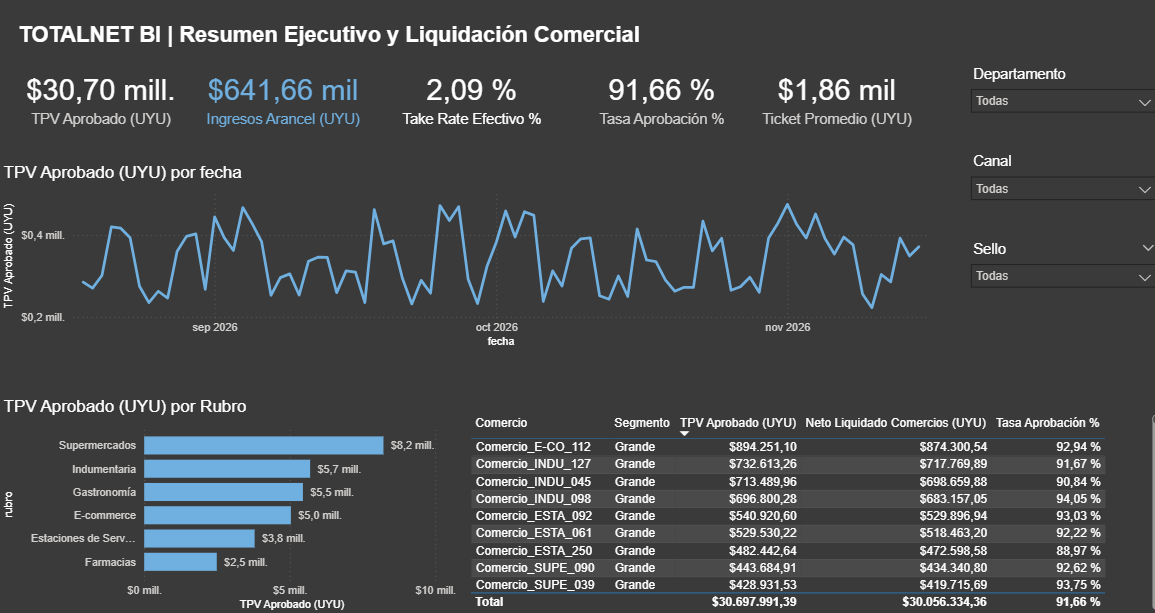

The page's visual inventory and layout, read from the dashboard file:
{"tool":"powerbi","page":{"name":"Resumen Ejecutivo","canvas":[1280,720],"ordinal":0},"visuals":[{"type":"card","fields":{"Values":["Medidas_Totalnet.TPV Aprobado (UYU)"]},"box":[0,48,224,208],"z":0},{"type":"card","fields":{"Values":["Medidas_Totalnet.Ingresos Arancel (UYU)"]},"box":[192,48,240,208],"z":1000},{"type":"card","fields":{"Values":["Medidas_Totalnet.Take Rate Efectivo %"]},"box":[400,48,240,208],"z":2000},{"type":"card","fields":{"Values":["Medidas_Totalnet.Tasa Aprobación %"]},"box":[608,48,240,208],"z":3000},{"type":"card","fields":{"Values":["Medidas_Totalnet.Ticket Promedio (UYU)"]},"box":[800,48,240,208],"z":4000},{"type":"slicer","fields":{"Values":["public dim_comercios.departamento"]},"box":[1056,112,224,96],"z":5000},{"type":"slicer","fields":{"Values":["public fact_transacciones.canal"]},"box":[1056,208,224,80],"z":6000},{"type":"slicer","fields":{"Values":["public fact_transacciones.sello"]},"box":[1056,304,224,80],"z":7000},{"type":"lineChart","fields":{"Y":["Medidas_Totalnet.TPV Aprobado (UYU)"],"Category":["public fact_transacciones.fecha"]},"box":[0,224,1040,208],"z":8000},{"type":"clusteredBarChart","fields":{"Category":["public dim_comercios.rubro"],"Y":["Medidas_Totalnet.TPV Aprobado (UYU)"]},"box":[0,480,544,240],"z":9000},{"type":"tableEx","fields":{"Values":["public dim_comercios.nombre_comercio","public dim_comercios.tamano_comercio","Medidas_Totalnet.TPV Aprobado (UYU)","Medidas_Totalnet.Neto Liquidado Comercios (UYU)","Medidas_Totalnet.Tasa Aprobación %"]},"box":[544,432,736,288],"z":10000}]}

Visuals, with their boxes on the page's 1280x720 design canvas (x1, y1, x2, y2). These are canvas units, not pixel positions in the 1155x613 screenshot, which may show the page scaled, cropped or inside an application window:
card - Medidas_Totalnet.TPV Aprobado (UYU): <region>0, 48, 224, 256</region>
card - Medidas_Totalnet.Ingresos Arancel (UYU): <region>192, 48, 432, 256</region>
card - Medidas_Totalnet.Take Rate Efectivo %: <region>400, 48, 640, 256</region>
card - Medidas_Totalnet.Tasa Aprobación %: <region>608, 48, 848, 256</region>
card - Medidas_Totalnet.Ticket Promedio (UYU): <region>800, 48, 1040, 256</region>
slicer - public dim_comercios.departamento: <region>1056, 112, 1280, 208</region>
slicer - public fact_transacciones.canal: <region>1056, 208, 1280, 288</region>
slicer - public fact_transacciones.sello: <region>1056, 304, 1280, 384</region>
lineChart - Medidas_Totalnet.TPV Aprobado (UYU) x public fact_transacciones.fecha: <region>0, 224, 1040, 432</region>
clusteredBarChart - public dim_comercios.rubro x Medidas_Totalnet.TPV Aprobado (UYU): <region>0, 480, 544, 720</region>
tableEx - public dim_comercios.nombre_comercio x public dim_comercios.tamano_comercio: <region>544, 432, 1280, 720</region>
